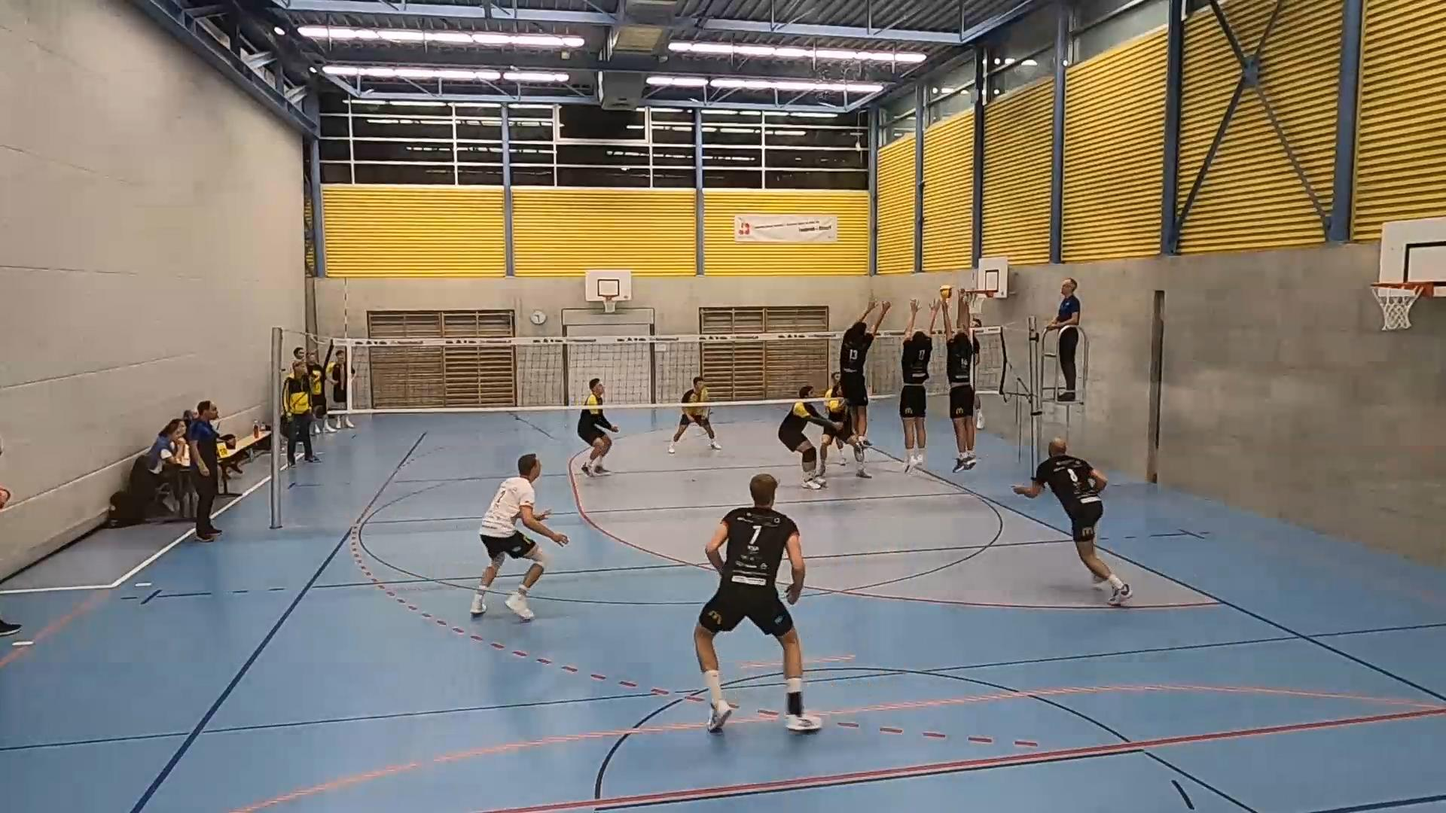attacco: (964, 309, 997, 437)
muro: (934, 286, 990, 476), (834, 301, 890, 462), (897, 293, 937, 473)
